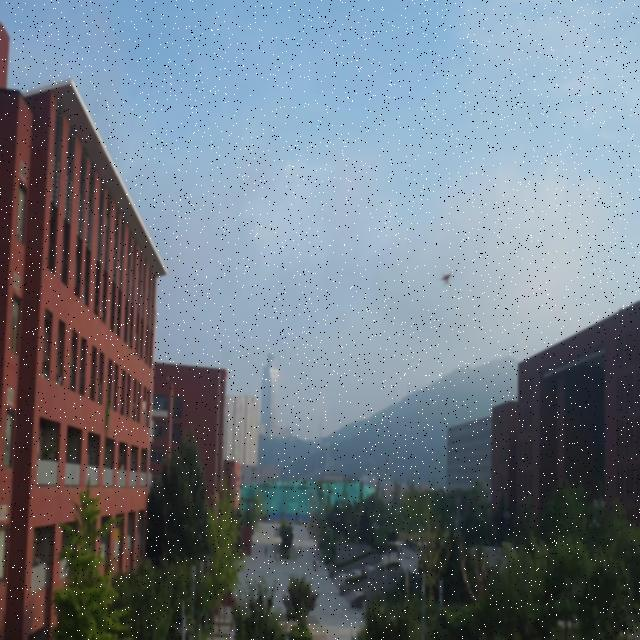UAV: (437, 270, 456, 287)
